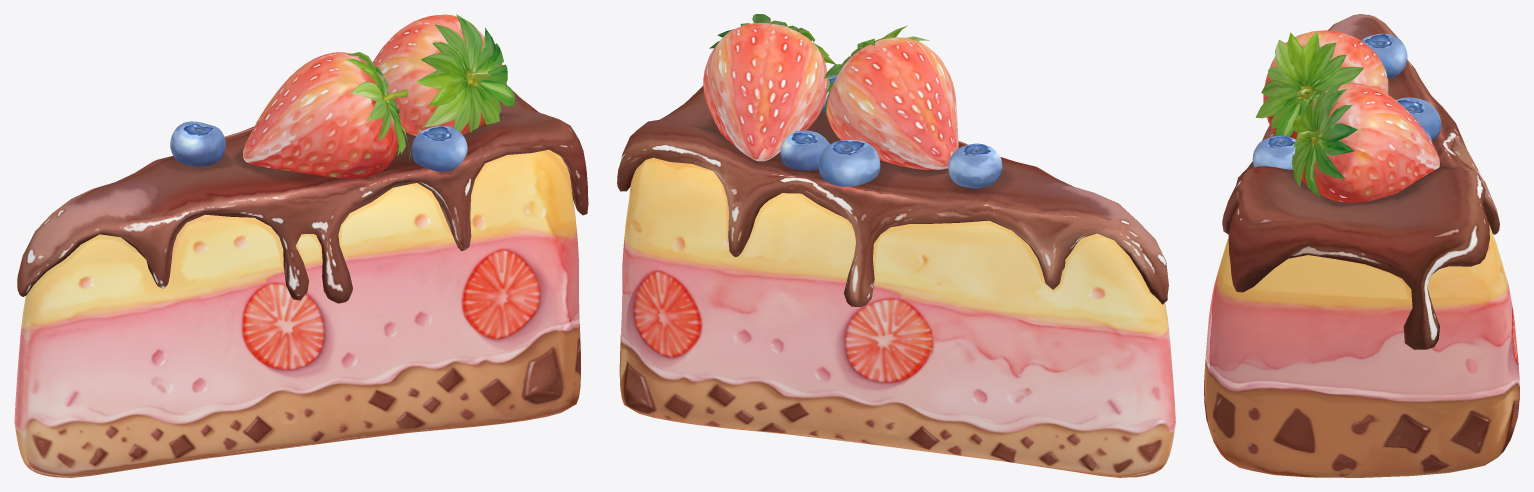
The model's file is cake4.glb.
3 renders of one model, left to right at view 1: azimuth 30°, elevation 25°; view 2: azimuth 150°, elevation 25°; view 3: azimuth 270°, elevation 25°, orthographic. The views are drawn at different scales.
Parts seen in each view (by area): view 1: cake001, frosting001, strawberry001, berries001, leaves004, leaves003, blueberry001; view 2: cake001, frosting001, berries001, strawberry001, leaves004, leaves003; view 3: cake001, frosting001, berries001, leaves003, leaves004, strawberry001, blueberry001.
Part boxes in pixels (left/top/right/bottom): cake001: left=14, top=149, right=580, bottom=477; frosting001: left=17, top=85, right=588, bottom=303; strawberry001: left=243, top=52, right=398, bottom=178; berries001: left=170, top=14, right=506, bottom=166; leaves004: left=415, top=14, right=514, bottom=132; leaves003: left=345, top=52, right=410, bottom=162; blueberry001: left=411, top=126, right=467, bottom=171; cake001: left=619, top=157, right=1175, bottom=477; frosting001: left=617, top=86, right=1168, bottom=306; berries001: left=703, top=23, right=1002, bottom=188; strawberry001: left=826, top=37, right=958, bottom=169; leaves004: left=709, top=14, right=835, bottom=87; leaves003: left=824, top=26, right=929, bottom=113; cake001: left=1204, top=223, right=1519, bottom=477; frosting001: left=1222, top=14, right=1499, bottom=349; berries001: left=1301, top=33, right=1441, bottom=202; leaves003: left=1255, top=31, right=1364, bottom=136; leaves004: left=1291, top=81, right=1357, bottom=196; strawberry001: left=1263, top=30, right=1388, bottom=139; blueberry001: left=1252, top=135, right=1295, bottom=169.
Bounding box in the file's own units: 0.6448 × 0.4421 × 0.3509.
1 material, 1 textured.
